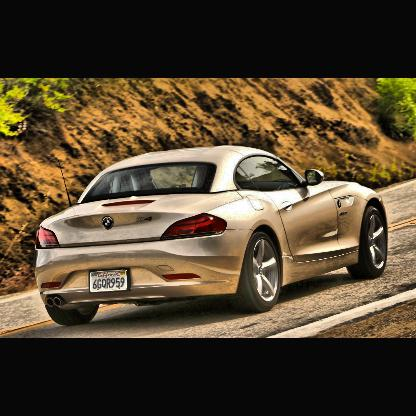BMW Z4 Convertible 2012: (37, 145, 389, 327)
